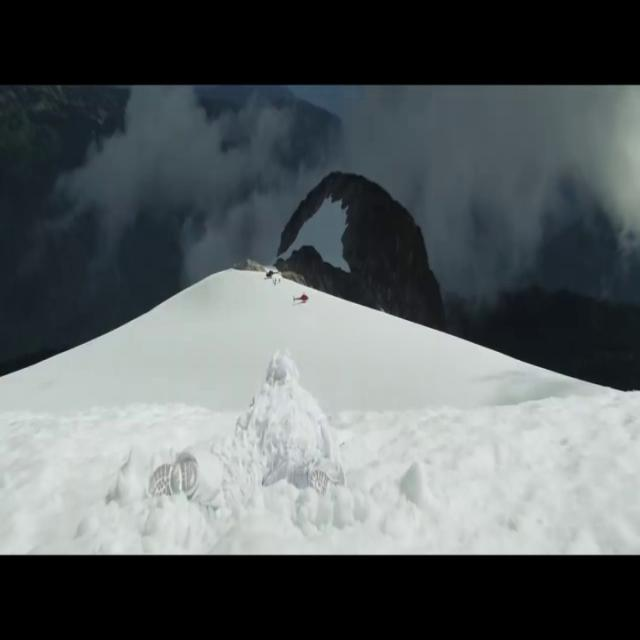Camouflage: (147, 347, 343, 491)
